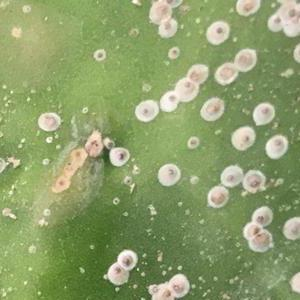Femea: (134, 102, 157, 121), (178, 80, 195, 101), (186, 66, 207, 81), (208, 22, 224, 41), (118, 253, 137, 269), (109, 264, 125, 283), (236, 129, 253, 146), (282, 2, 299, 19), (222, 170, 241, 185), (158, 20, 175, 36), (169, 276, 185, 293), (160, 166, 175, 184), (255, 105, 269, 124), (162, 94, 177, 111), (270, 138, 284, 154), (111, 150, 126, 164), (268, 14, 281, 28), (187, 135, 199, 150), (167, 47, 179, 58), (91, 50, 104, 58), (123, 176, 131, 184)
Linfa: (190, 273, 211, 294), (147, 203, 160, 217), (155, 252, 166, 265), (76, 265, 87, 276), (174, 264, 184, 271), (88, 243, 95, 251), (175, 200, 182, 207), (161, 268, 166, 277), (211, 274, 217, 281), (166, 265, 173, 271)
Macho: (127, 182, 137, 195), (6, 212, 16, 219)
